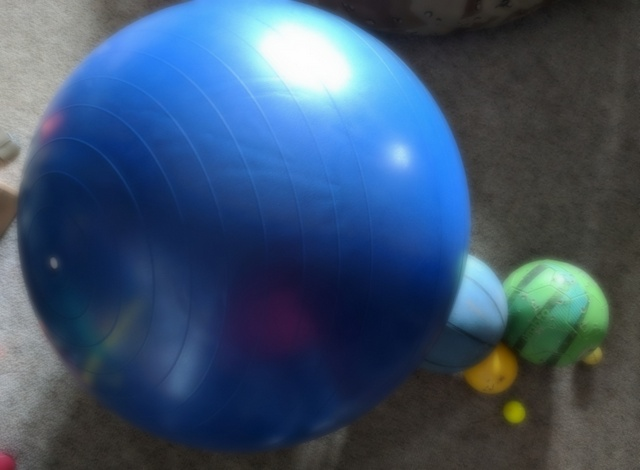ball: (19, 2, 474, 449)
